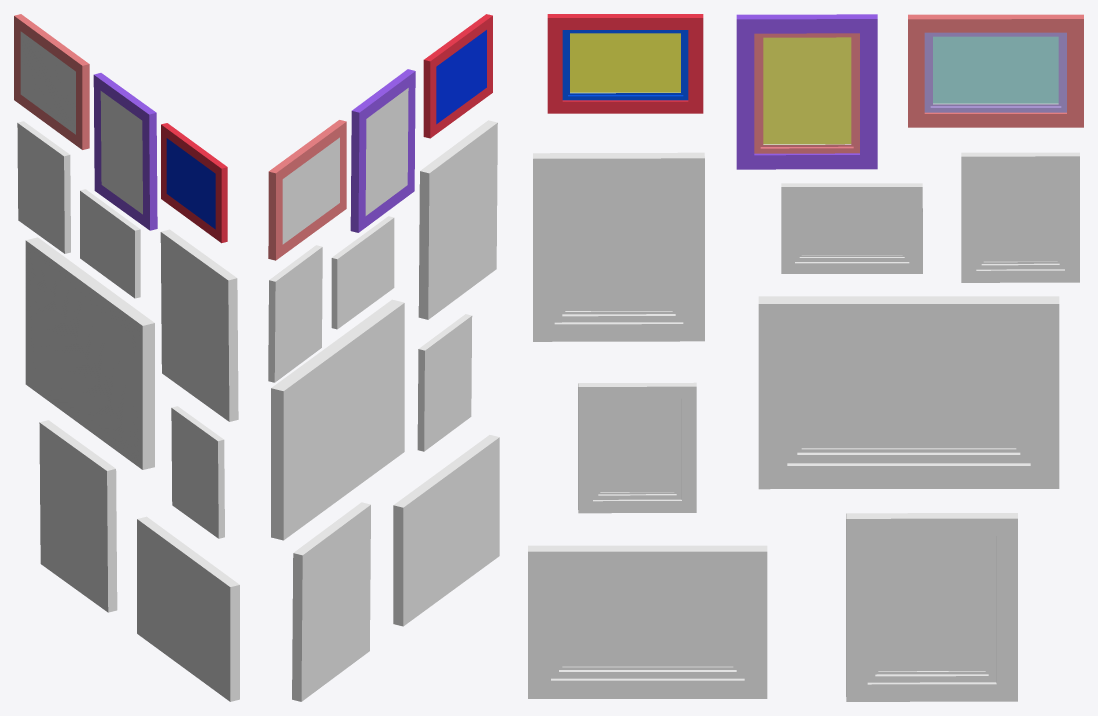
File: tablo.fbx
3 renders of one model, left to right at view 1: azimuth 30°, elevation 25°; view 2: azimuth 150°, elevation 25°; view 3: azimuth 270°, elevation 25°, orthographic. The views are drawn at different scales.
Visible parts, largest first — view 1: Group_002, Group_003, Group_009, Group_005, Group_008, Group_007, Group_001, Group_004, Group_006, Group_010; view 2: Group_002, Group_003, Group_005, Group_009, Group_008, Group_007, Group_006, Group_004, Group_001, Group_010; view 3: Group_002, Group_003, Group_005, Group_009, Group_008, Group_007, Group_006, Group_004, Group_001, Group_010.
Part boxes in pixels (box(x1,y1,x2,y2)): Group_002: box(25, 237, 154, 469); Group_003: box(137, 516, 239, 701); Group_009: box(39, 420, 117, 612); Group_005: box(160, 229, 238, 421); Group_008: box(93, 73, 157, 230); Group_007: box(14, 14, 89, 149); Group_001: box(171, 406, 224, 538); Group_004: box(17, 121, 70, 253); Group_006: box(161, 123, 227, 243); Group_010: box(80, 189, 140, 298); Group_002: box(271, 299, 404, 540); Group_003: box(393, 435, 499, 626); Group_005: box(418, 120, 497, 319); Group_009: box(292, 502, 370, 701); Group_008: box(350, 69, 415, 232); Group_007: box(268, 120, 346, 260); Group_006: box(423, 14, 492, 138); Group_004: box(268, 245, 322, 382); Group_001: box(417, 314, 472, 451); Group_010: box(331, 216, 394, 329); Group_002: box(758, 296, 1059, 489); Group_003: box(528, 545, 767, 698); Group_005: box(533, 152, 704, 341); Group_009: box(846, 513, 1017, 701); Group_008: box(736, 14, 877, 169); Group_007: box(908, 14, 1083, 127); Group_006: box(547, 14, 703, 113); Group_004: box(961, 152, 1079, 282); Group_001: box(578, 382, 696, 513); Group_010: box(781, 183, 922, 273).
Bounding box in the file's own units: 0.0463 × 1.52 × 1.13.
